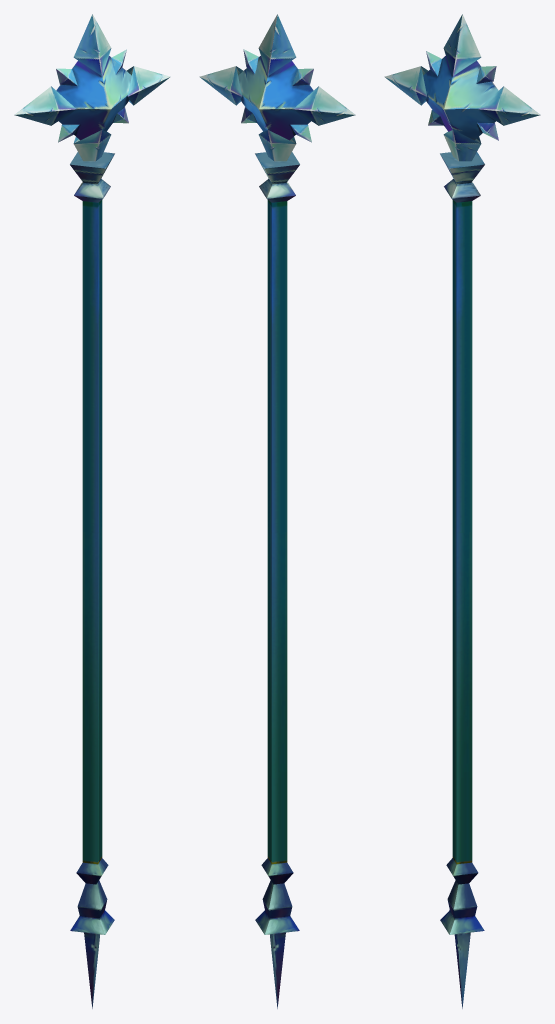
Rendered from R007wea.FBX.
3 views of the same model, side by side, from view 1: azimuth 30°, elevation 25°; view 2: azimuth 150°, elevation 25°; view 3: azimuth 330°, elevation 25° (orthographic).
Visible parts, largest first — view 1: R007wea; view 2: R007wea; view 3: R007wea.
Boxes of the visible parts, x1,y1,x2,y2 form: R007wea: [14, 14, 170, 1008]; R007wea: [199, 14, 355, 1008]; R007wea: [384, 14, 540, 1008].
Size of the model in its own units: 11.6 by 70.49 by 4.71.
